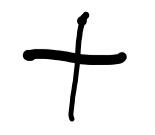plus: (24, 11, 126, 121)
